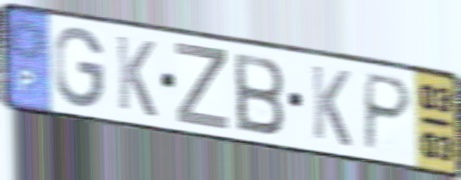B: (231, 49, 288, 139)
G: (53, 25, 107, 110)
K: (114, 31, 159, 121), (309, 61, 354, 151)
P: (361, 70, 415, 154)
Z: (173, 40, 232, 134)
